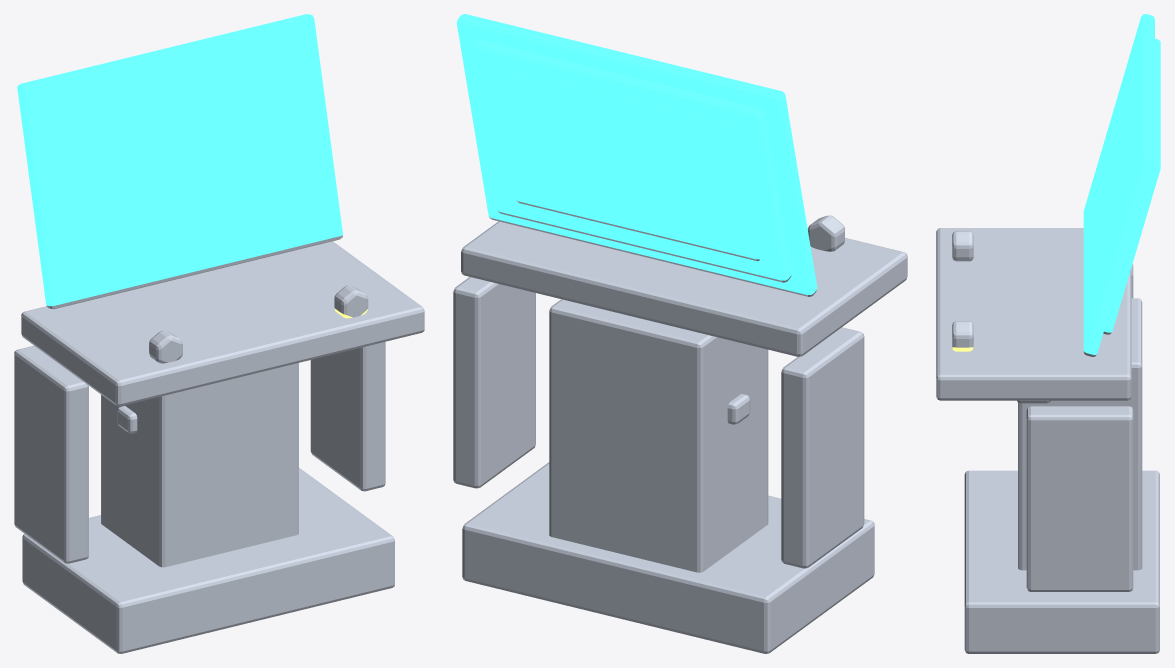
Rendered from Hangar_Console.fbx.
3 views of the same model, side by side, from view 1: azimuth 30°, elevation 25°; view 2: azimuth 150°, elevation 25°; view 3: azimuth 270°, elevation 25° (orthographic). The views are drawn at different scales.
Visible parts, largest first — view 1: Hangar_Console_Buffer; view 2: Hangar_Console_Buffer; view 3: Hangar_Console_Buffer.
Boxes of the visible parts, x1=… form: Hangar_Console_Buffer: x1=14, y1=14, x2=424, y2=653; Hangar_Console_Buffer: x1=453, y1=14, x2=907, y2=653; Hangar_Console_Buffer: x1=936, y1=14, x2=1160, y2=653.
Size of the model in its own units: 1.04 by 1.57 by 0.632.
